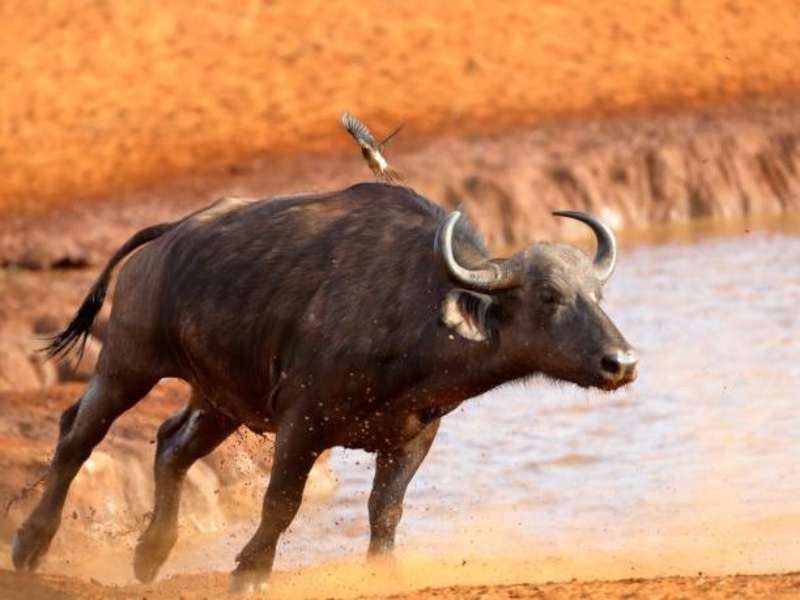buffalo: (29, 177, 642, 579)
